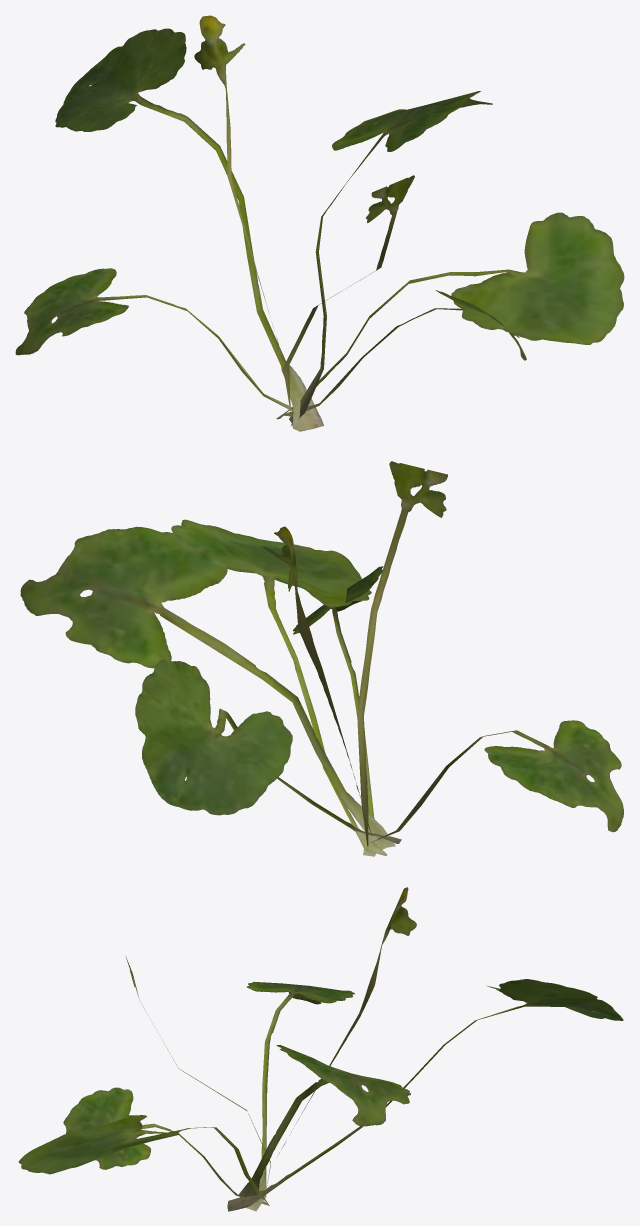
The picture shows the model from 3 angles, top to bottom: view 1: azimuth 30°, elevation 25°; view 2: azimuth 150°, elevation 25°; view 3: azimuth 270°, elevation 25°; orthographic projection. The views are drawn at different scales.
Visible parts, largest first — view 1: celandine_01__e_lod1; view 2: celandine_01__e_lod1; view 3: celandine_01__e_lod1.
Boxes of the visible parts, left/top/right/bottom form: celandine_01__e_lod1: left=15, top=15, right=624, bottom=431; celandine_01__e_lod1: left=20, top=461, right=623, bottom=856; celandine_01__e_lod1: left=18, top=887, right=623, bottom=1211.
Size of the model in its own units: 0.1929 by 0.1263 by 0.2216.
1 material, 1 textured.
